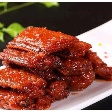hongshaodaiyu: (1, 25, 112, 112)
